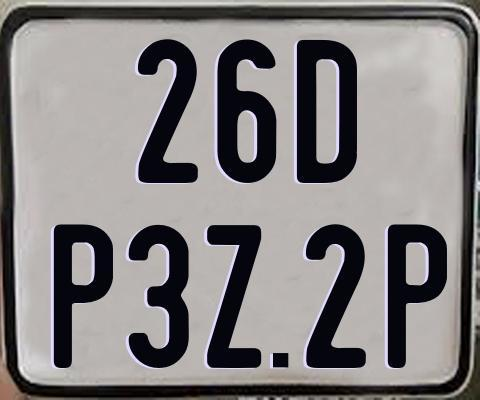2: (305, 222, 369, 370), (138, 36, 198, 184)
3: (129, 225, 194, 374)
6: (216, 36, 278, 180)
D: (295, 37, 357, 185)
P: (385, 222, 450, 371), (54, 222, 117, 372)
Z: (205, 222, 263, 370)
